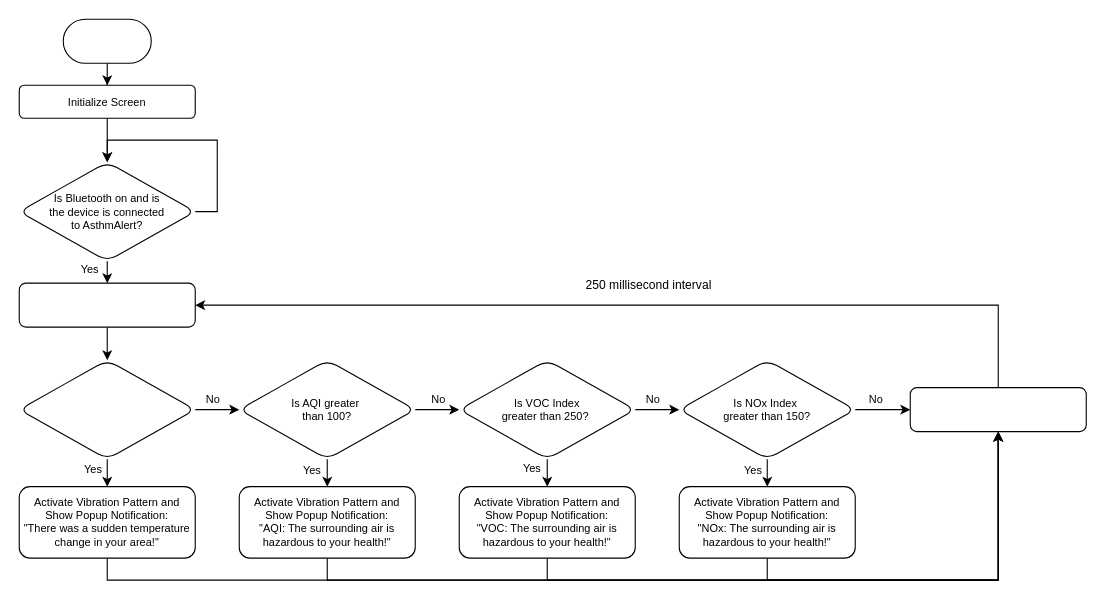
This 1106x608 diagram has some shape labels left out. The centre of each missing label's shape, as x and y in pixels:
Is temperature change greater than 10°C?: the point at 106,409
Receive Data sent through Bluetooth Serial: the point at 106,304
Start: the point at 106,40
Update Display: the point at 997,409
